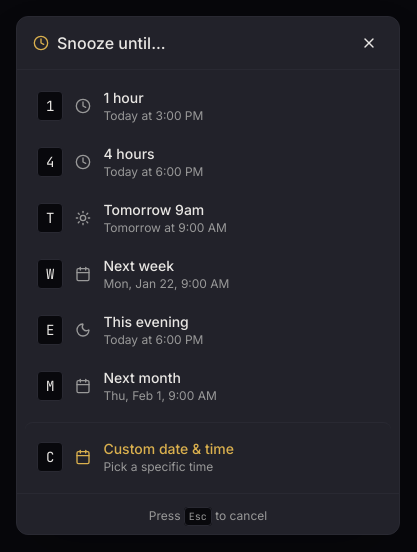
Scenario: TriageSnoozePicker › custom date picker › disables Snooze button when no date is selected
Click the text "Custom date & time" at (169, 448), box [103, 440, 234, 456]
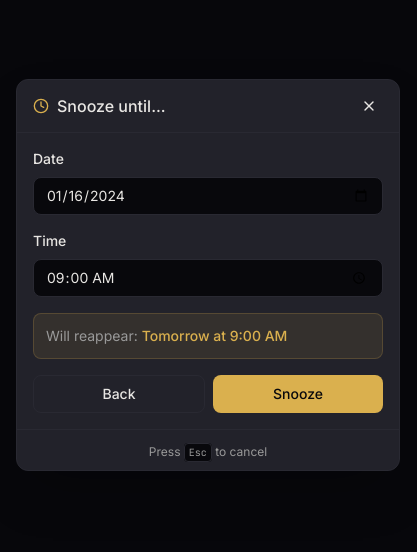
Clear the date field at (208, 196), box [33, 177, 383, 215]
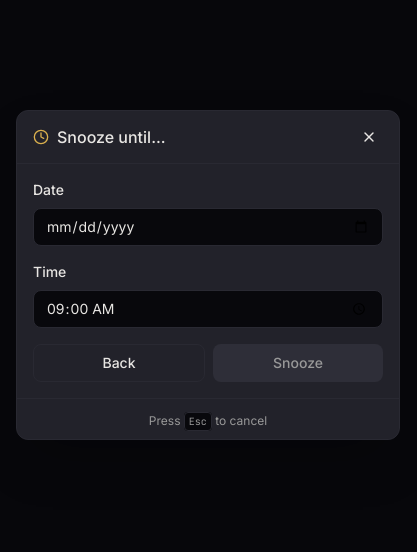
Result: the button "Snooze" is disabled at [213, 344, 383, 382]
